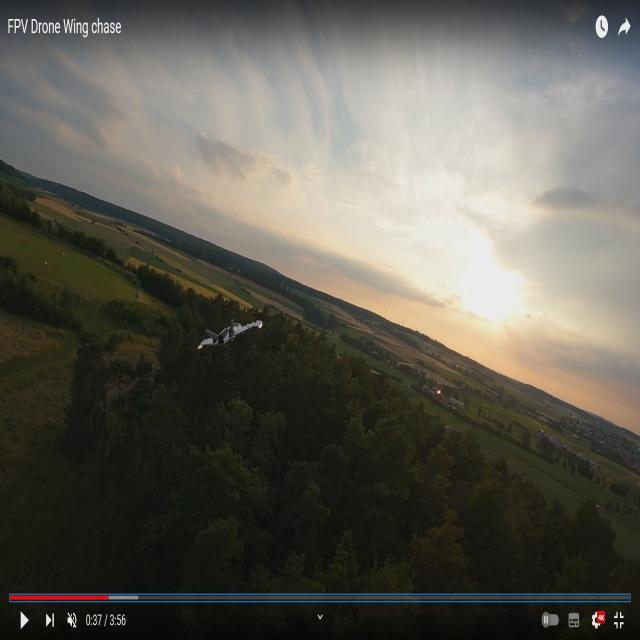iha: (201, 315, 261, 351)
